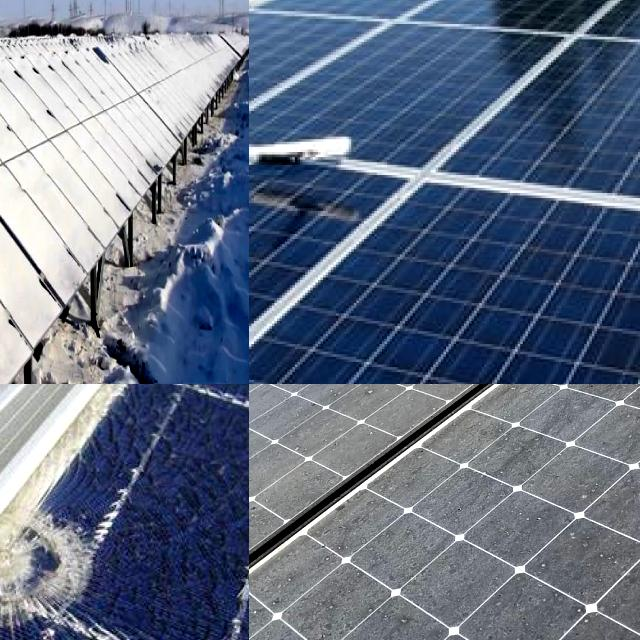crack: (506, 44, 640, 225)
dust: (292, 536, 557, 640), (573, 384, 640, 640), (443, 384, 547, 538), (269, 384, 438, 475), (475, 384, 607, 437), (249, 452, 316, 549), (384, 384, 502, 425), (550, 384, 640, 432), (249, 384, 317, 437), (249, 384, 355, 412)
hotspot: (0, 457, 126, 640)
panel: (0, 103, 52, 293), (32, 116, 134, 212), (0, 196, 54, 344), (0, 88, 54, 231), (0, 260, 62, 384), (124, 45, 202, 122), (0, 74, 44, 169), (26, 58, 114, 104), (0, 307, 52, 384), (0, 45, 71, 94), (0, 37, 88, 76)
